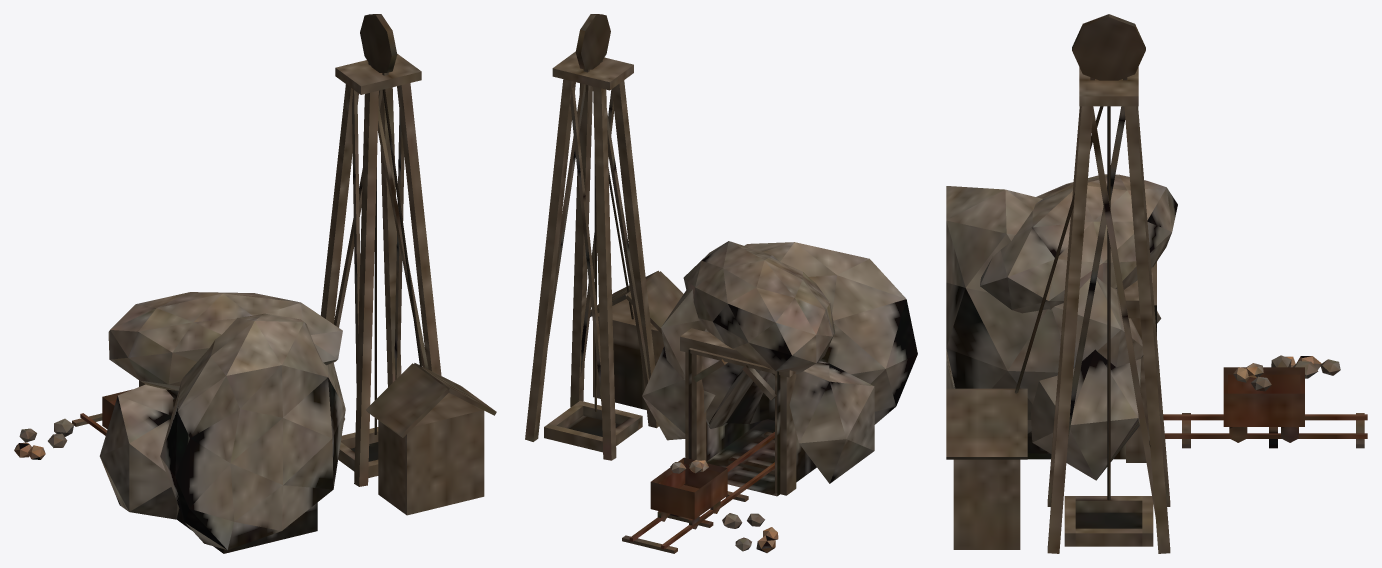
Rendered from b_mine_far.glb.
3 views of the same model, side by side, from view 1: azimuth 30°, elevation 25°; view 2: azimuth 150°, elevation 25°; view 3: azimuth 270°, elevation 25° (orthographic). The views are drawn at different scales.
Visible parts, largest first — view 1: b_mine_far; view 2: b_mine_far; view 3: b_mine_far.
Boxes of the visible parts, <box> form: b_mine_far: <box>14,14,496,553</box>; b_mine_far: <box>525,14,917,553</box>; b_mine_far: <box>946,14,1367,553</box>.
Bounding box in the file's own units: 5.88 × 7.65 × 5.7.
Materials: 1 (1 with a texture image).
